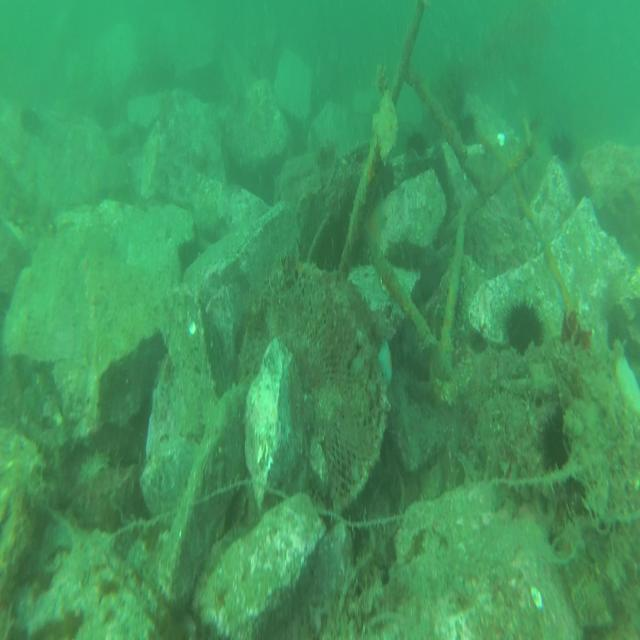echinus: (536, 406, 572, 480), (505, 296, 548, 354), (550, 130, 578, 167), (406, 126, 431, 160)
